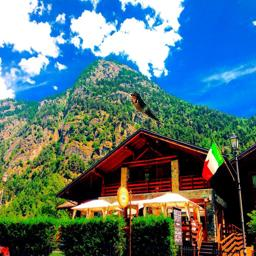Swallow: (128, 91, 162, 125)
